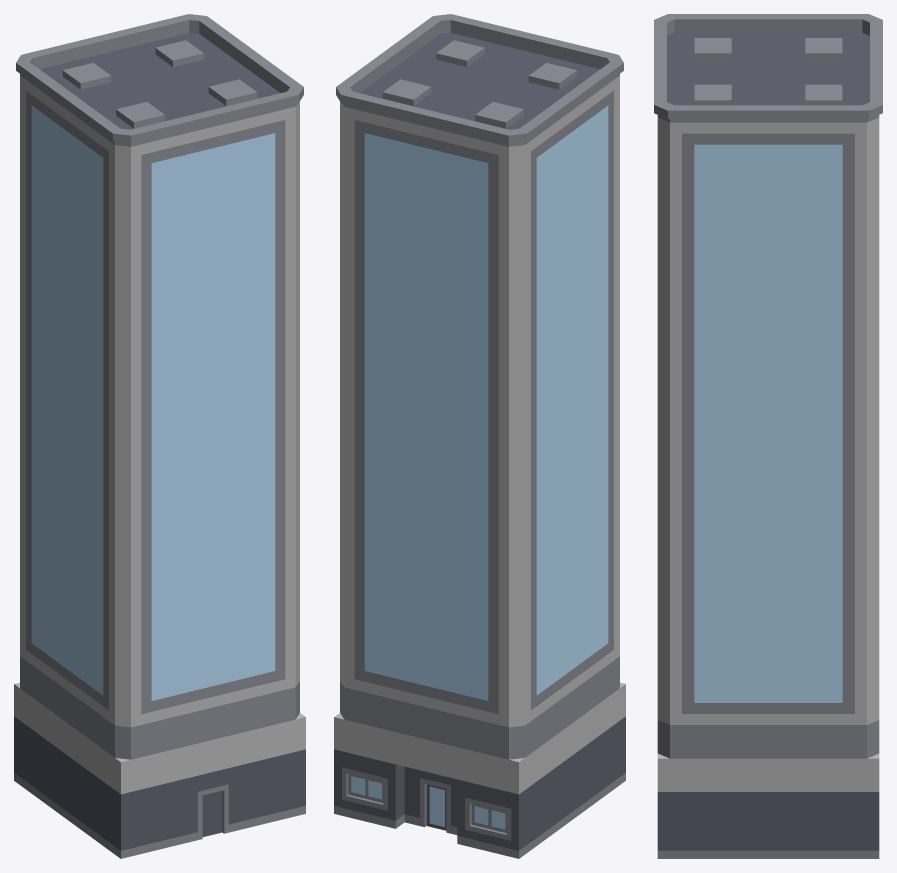
The model's file is skyscraperB.glb.
3 renders of one model, left to right at view 1: azimuth 30°, elevation 25°; view 2: azimuth 150°, elevation 25°; view 3: azimuth 270°, elevation 25°, orthographic. The views are drawn at different scales.
Visible parts, largest first — view 1: skyscraperB; view 2: skyscraperB; view 3: skyscraperB.
Part boxes in pixels (x1,y1,x2,y2): skyscraperB: (14, 14, 305, 858); skyscraperB: (334, 14, 625, 858); skyscraperB: (654, 14, 882, 858).
Bounding box in the file's own units: 1.24 × 4.48 × 1.24.
